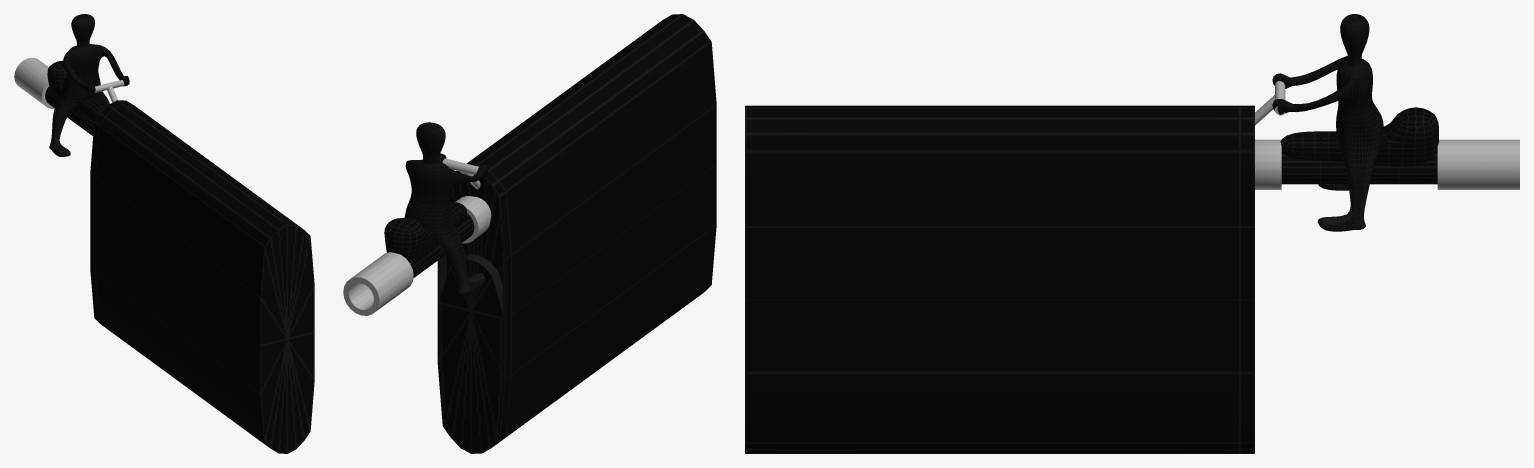
File: VapeMobile .fbx
3 views of the same model, side by side, from view 1: azimuth 30°, elevation 25°; view 2: azimuth 150°, elevation 25°; view 3: azimuth 270°, elevation 25° (orthographic). The views are drawn at different scales.
Visible parts, largest first — view 1: VapeMan; view 2: VapeMan; view 3: VapeMan.
Part boxes in pixels (x1,y1,x2,y2): VapeMan: [14, 14, 314, 453]; VapeMan: [343, 14, 716, 453]; VapeMan: [745, 14, 1519, 453].
Bounding box in the file's own units: 0.3032 × 1.26 × 2.03.
